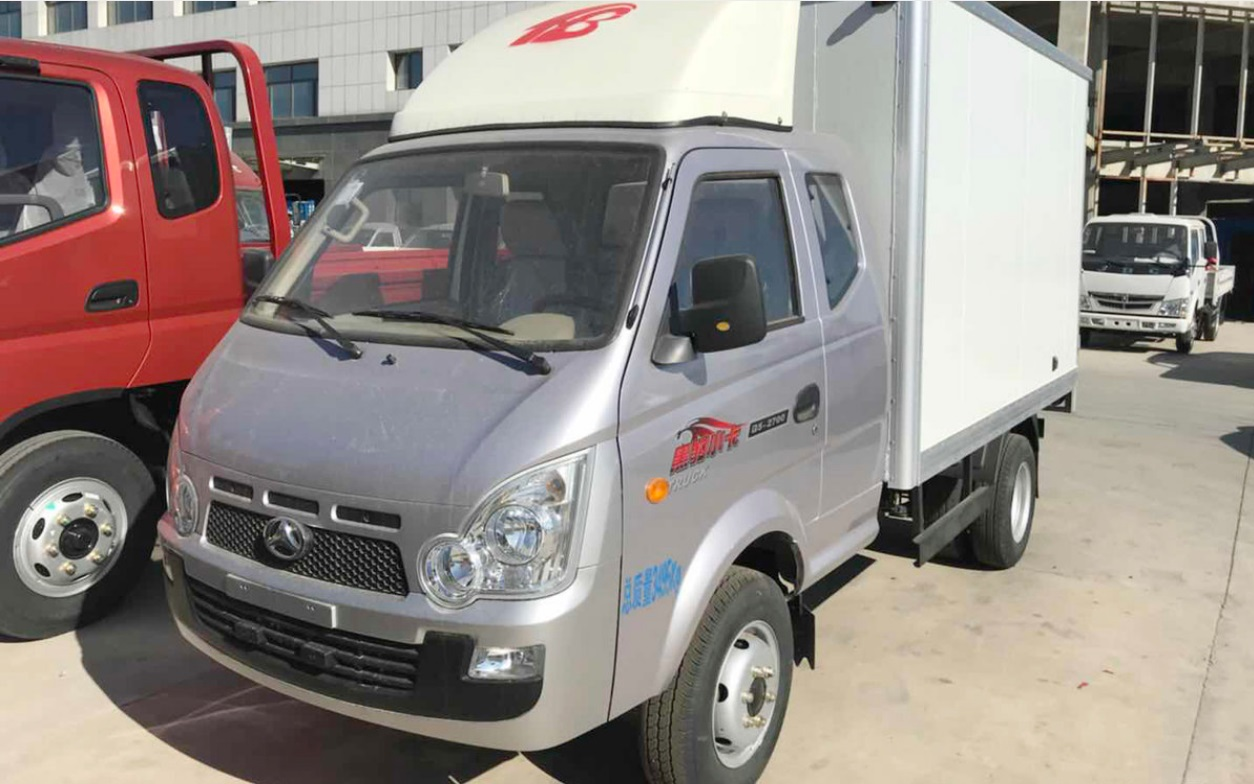truck: (158, 5, 1096, 784)
